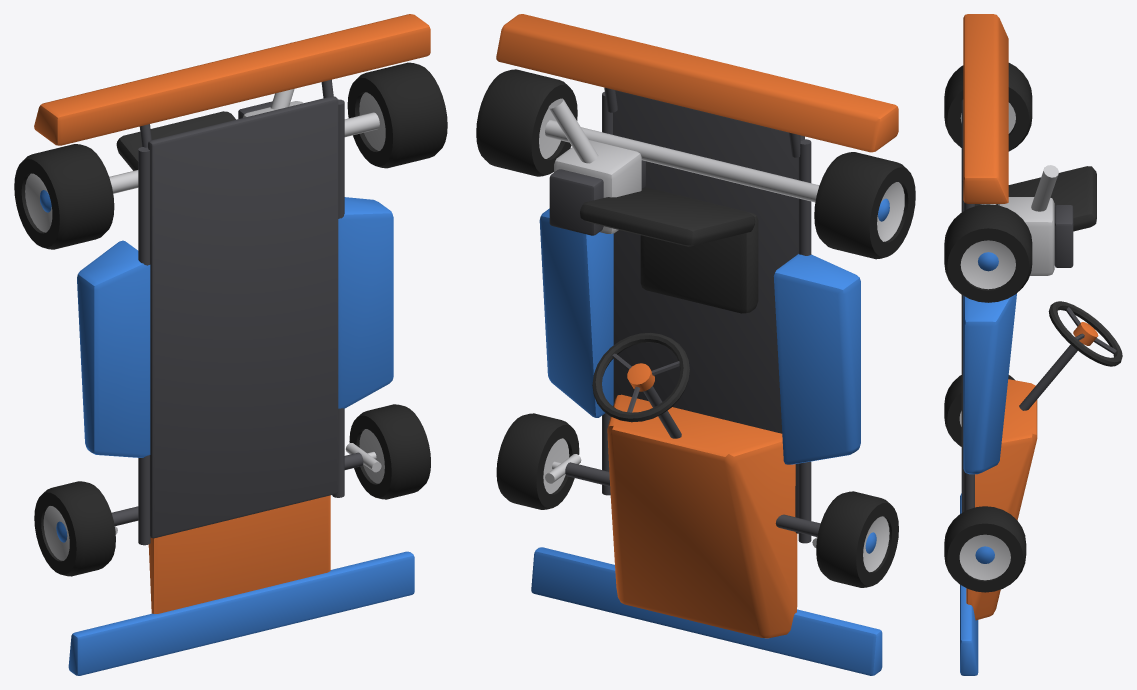
File: kart_held.gltf
The picture shows the model from 3 angles, left to right: view 1: azimuth 30°, elevation 25°; view 2: azimuth 150°, elevation 25°; view 3: azimuth 270°, elevation 25°; orthographic projection. The views are drawn at different scales.
Parts seen in each view (by area): view 1: rewards_kart_held; view 2: rewards_kart_held; view 3: rewards_kart_held.
Part boxes in pixels (x1=…): rewards_kart_held: x1=14, y1=14, x2=447, y2=675; rewards_kart_held: x1=476, y1=14, x2=915, y2=675; rewards_kart_held: x1=944, y1=14, x2=1122, y2=675.
Bounding box in the file's own units: 0.1726 × 0.24 × 0.0764.
